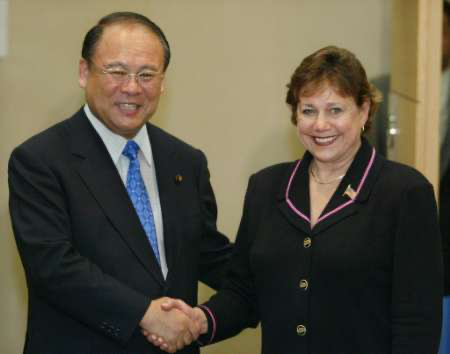Face: (89, 31, 166, 135), (294, 94, 363, 167)
